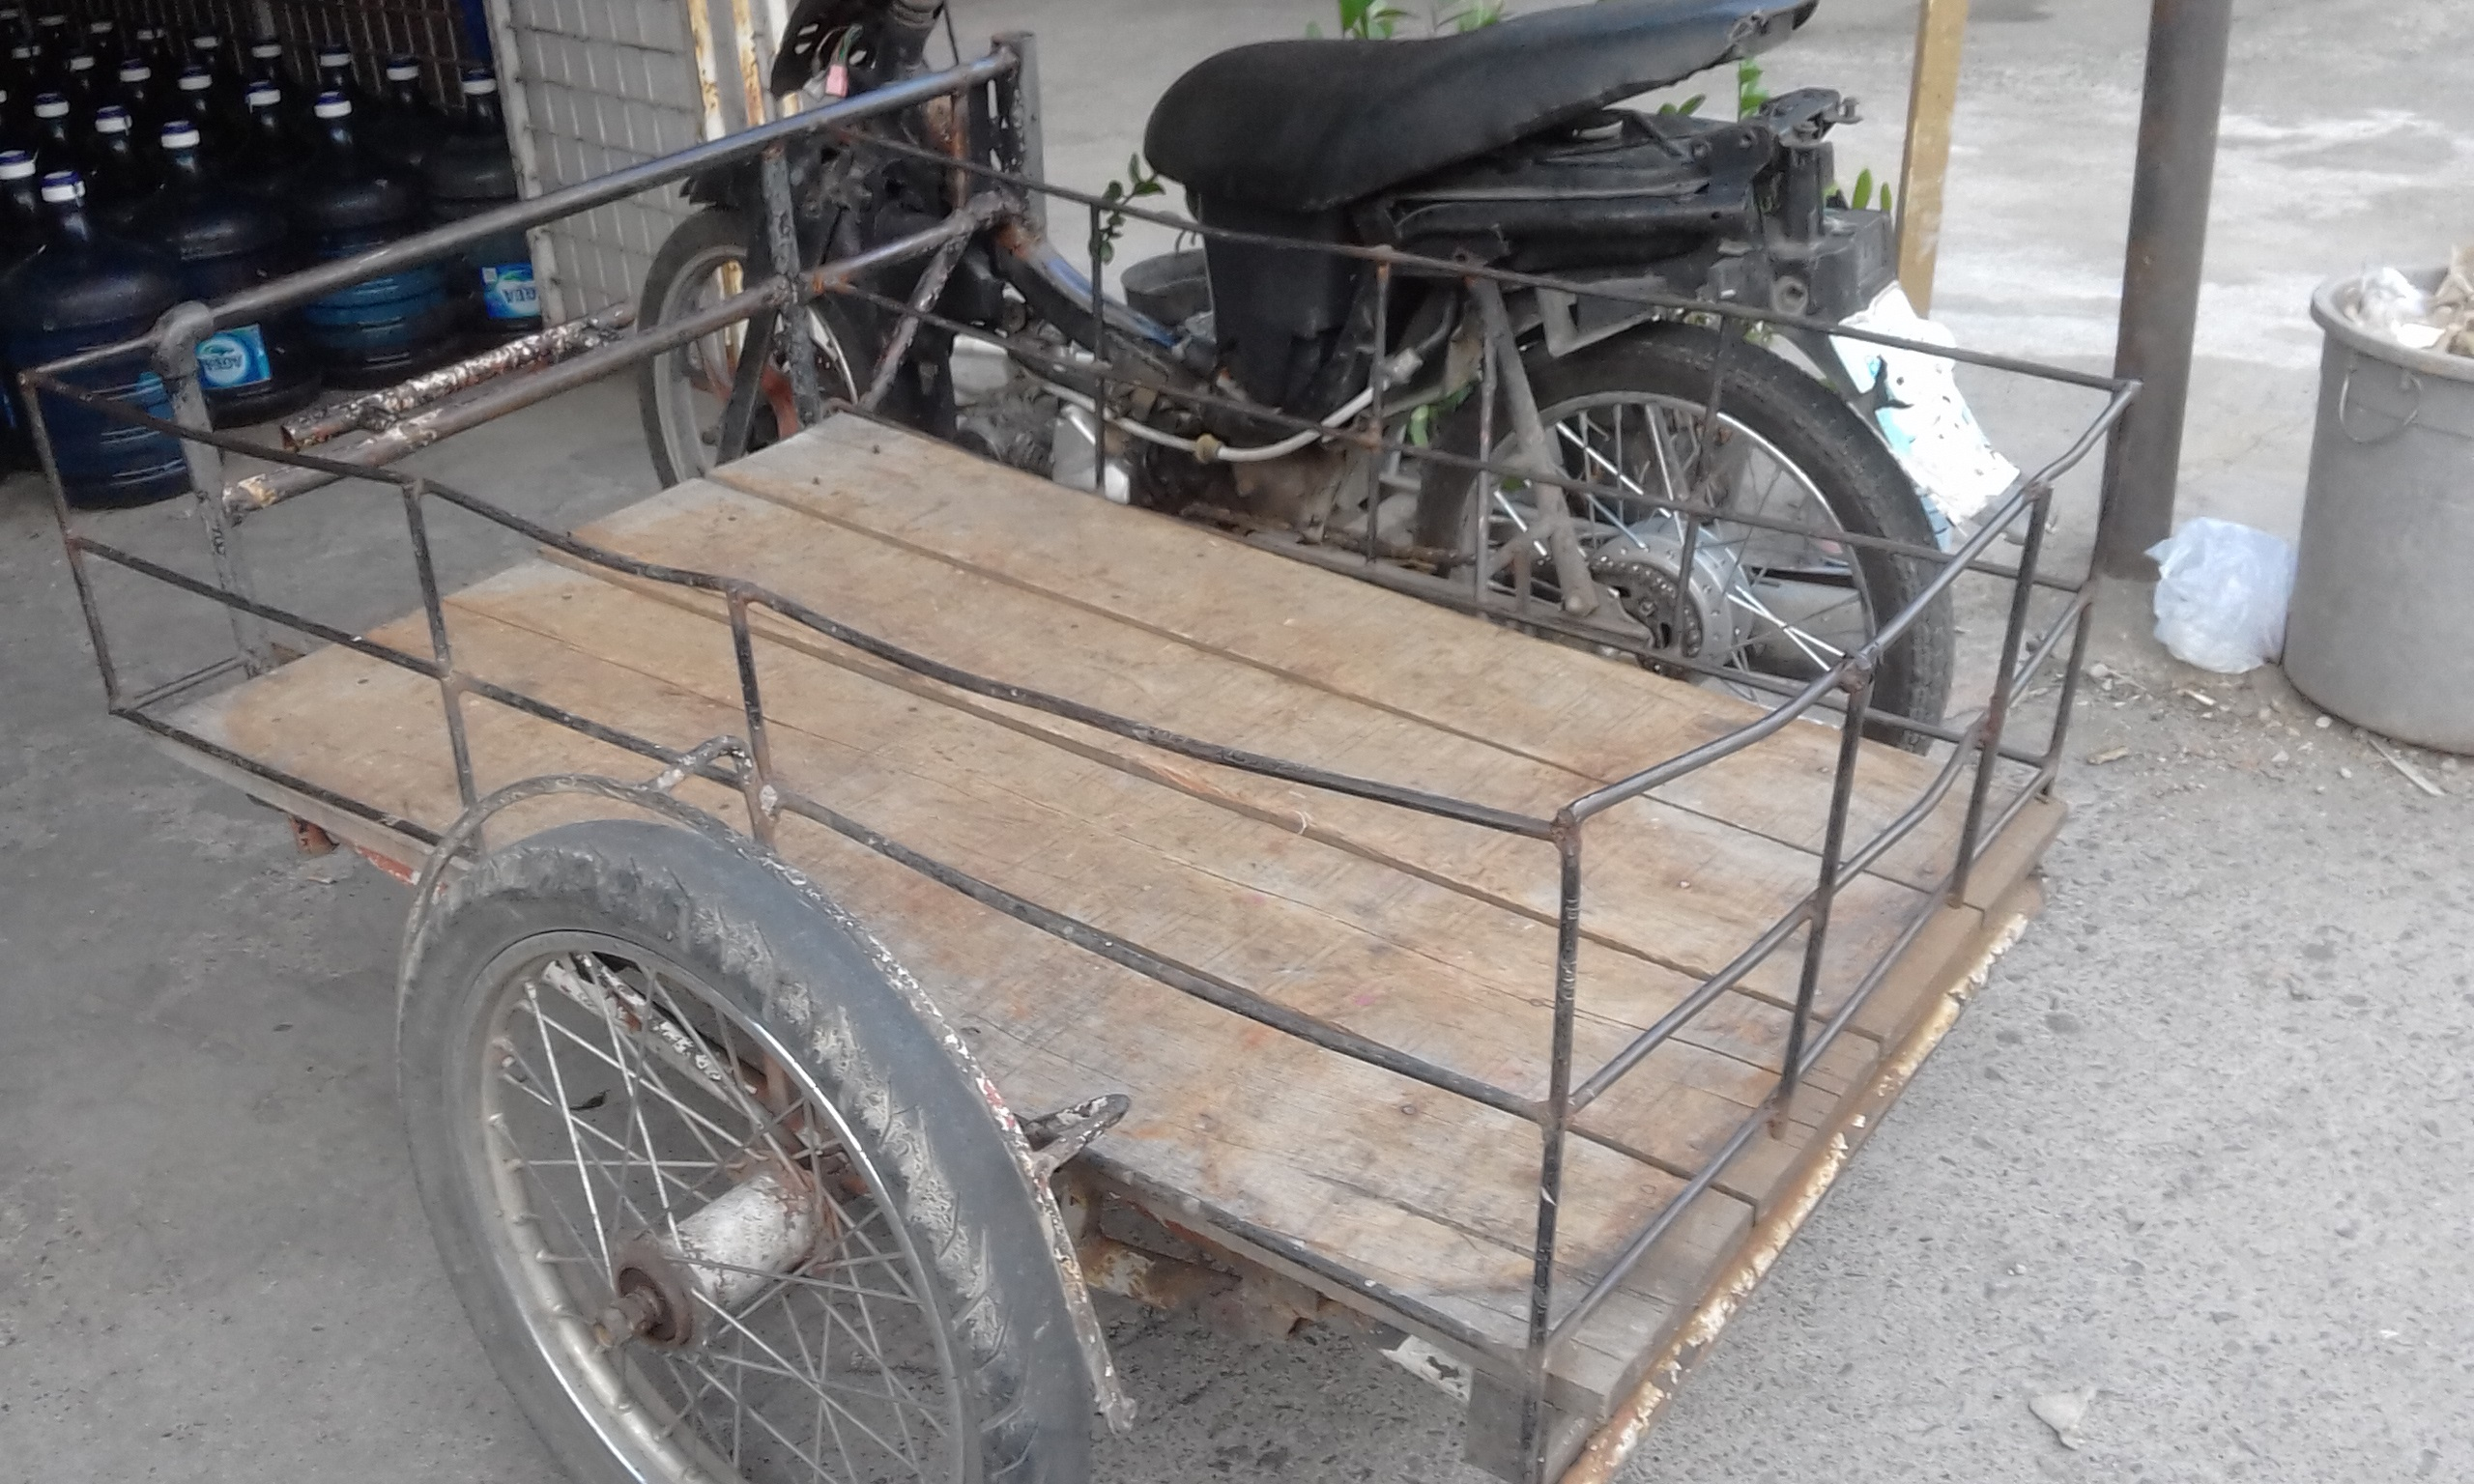becak barang: (19, 14, 2174, 1468)
